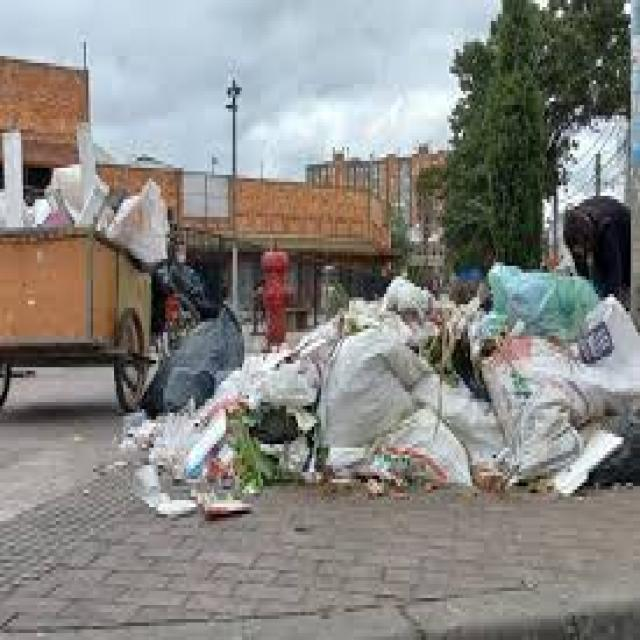high trash: (122, 265, 640, 516), (141, 265, 244, 416)
